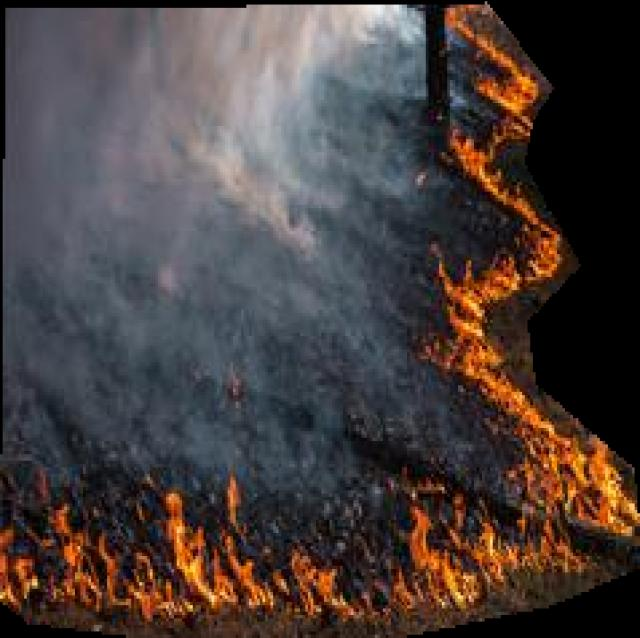fire: (0, 1, 640, 638)
